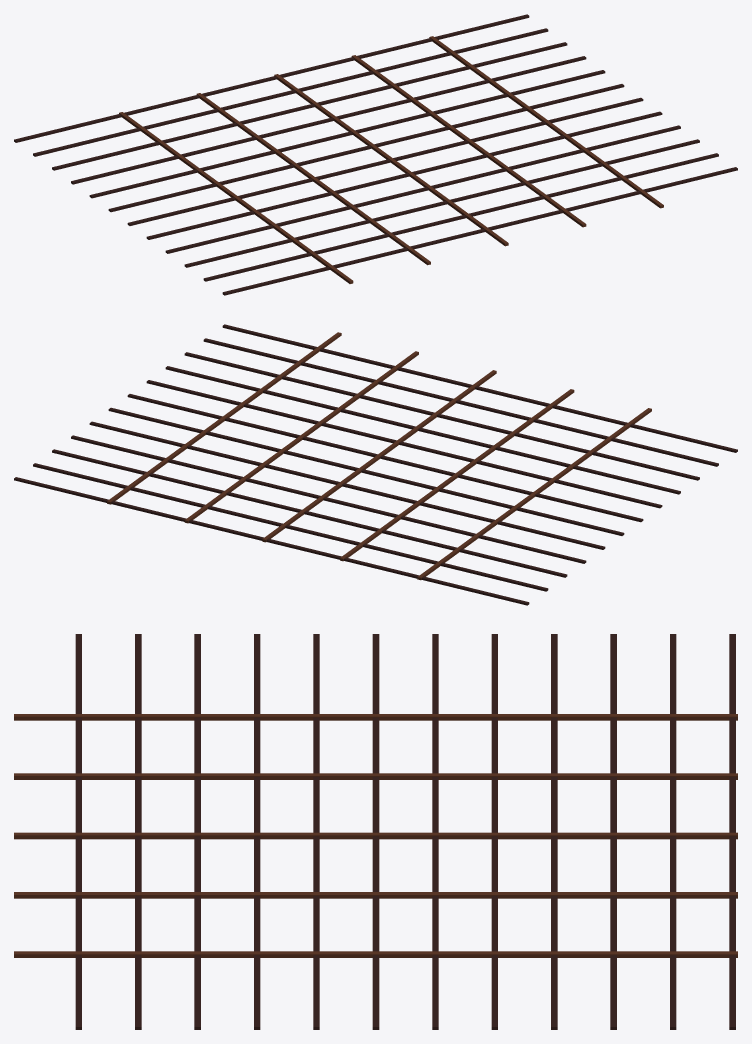
Rendered from floor_details.obj.
The picture shows the model from 3 angles, top to bottom: view 1: azimuth 30°, elevation 25°; view 2: azimuth 150°, elevation 25°; view 3: azimuth 270°, elevation 25°; orthographic projection. The views are drawn at different scales.
Bounding box in the file's own units: 8.6 × 0.04 × 6.7.
